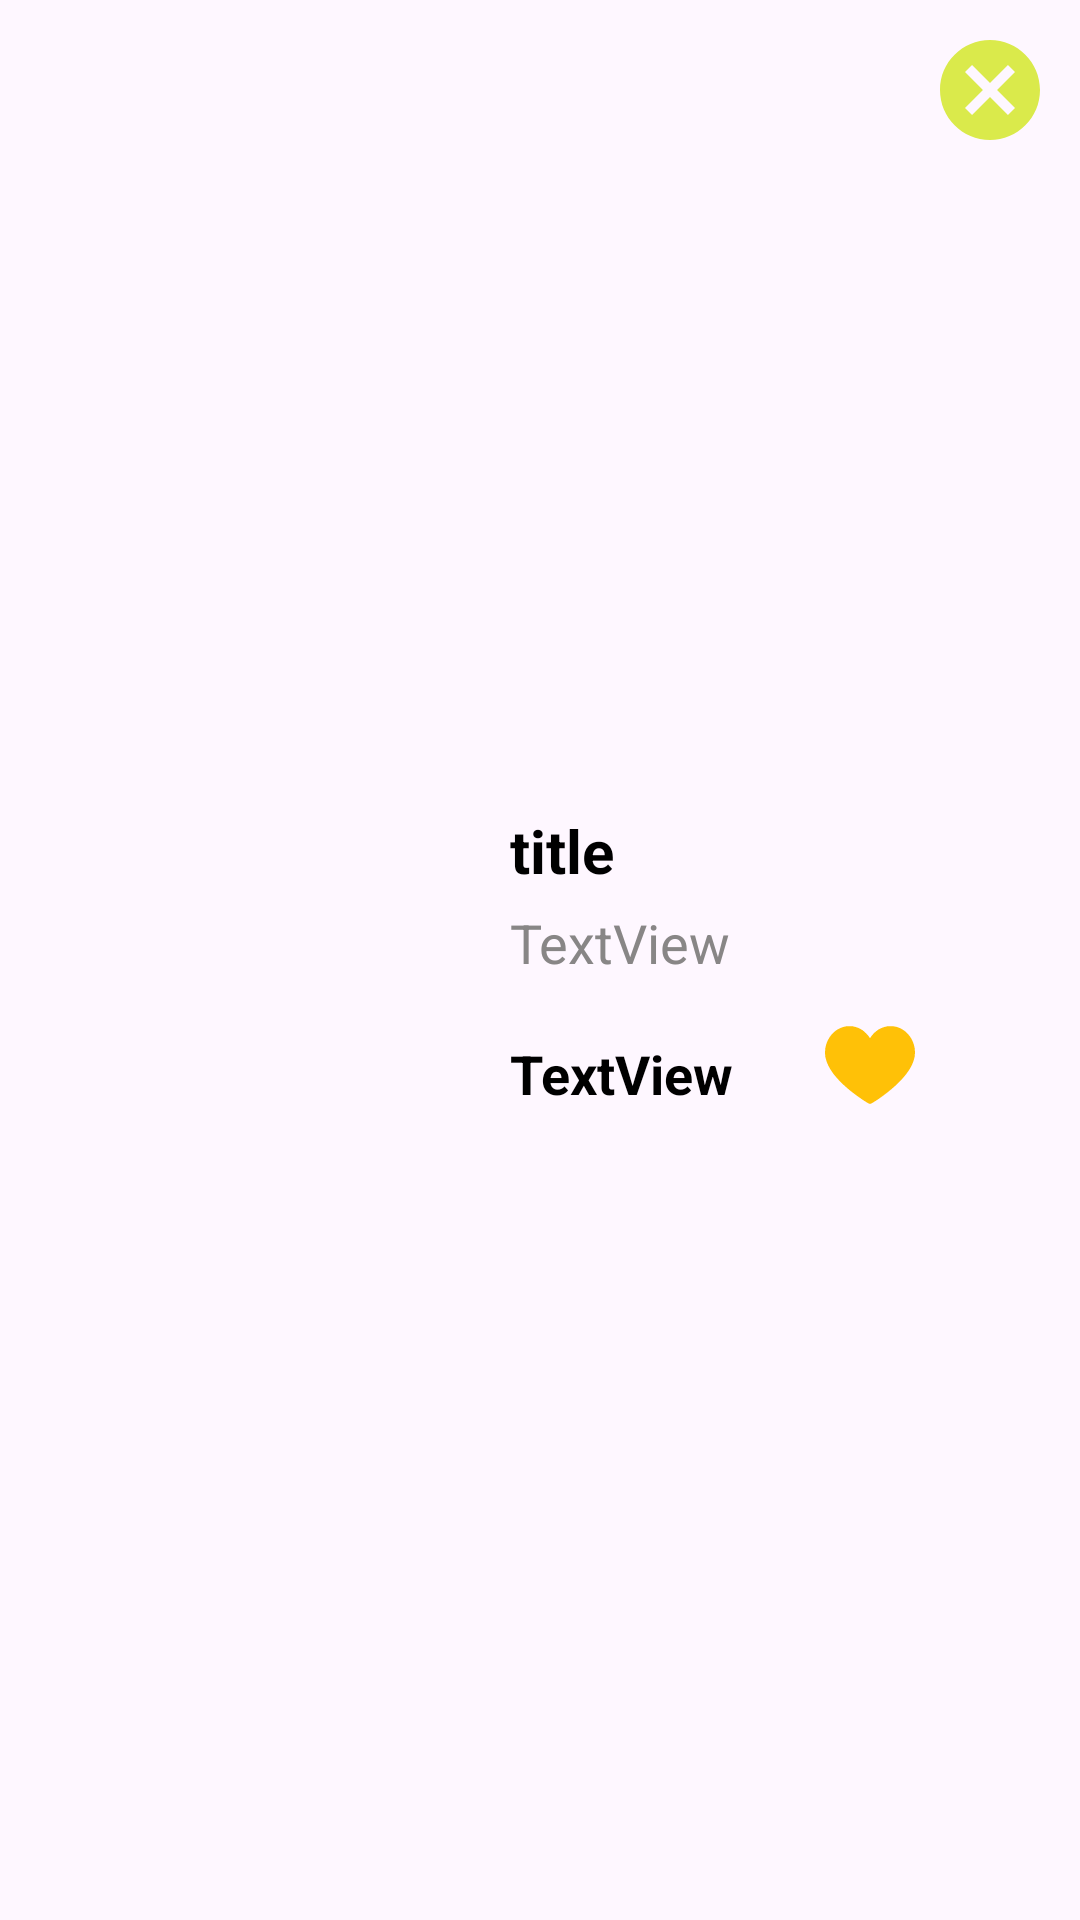

Icons on this 1080 x 1920 Android screen, each with the point to tap as point (x, y):
cancel: point (990, 90)
heart: point (870, 1065)
